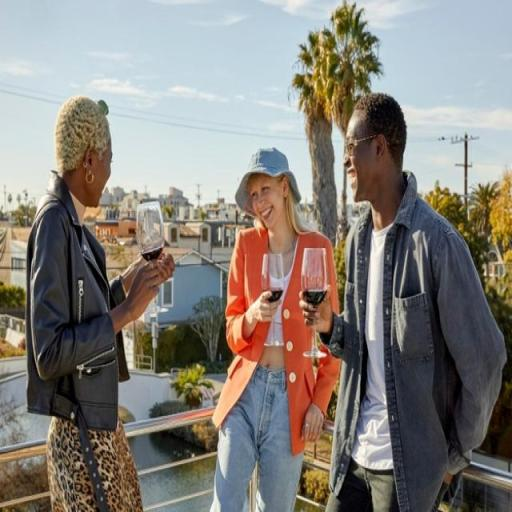person: (299, 90, 508, 512), (27, 95, 178, 512), (208, 146, 344, 512)
